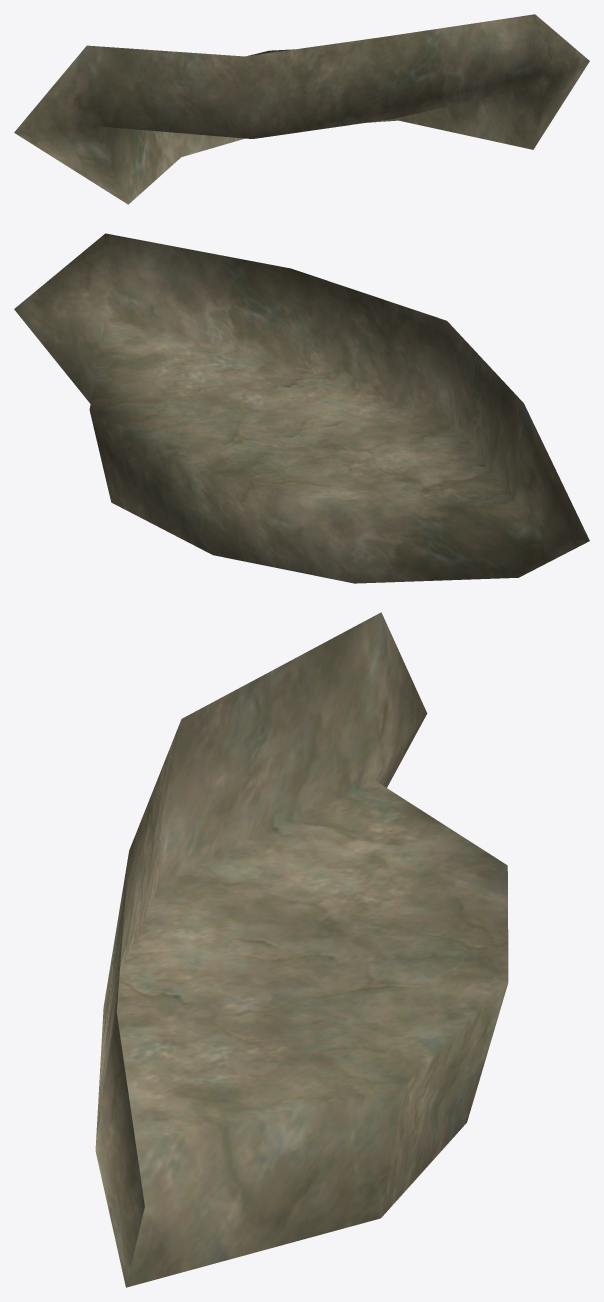
Rendered from EKH_CAVERNS_PS_CA_PLATFORM_9030.fbx.
3 views of the same model, one above another, from view 1: azimuth 30°, elevation 25°; view 2: azimuth 150°, elevation 25°; view 3: azimuth 270°, elevation 25° (orthographic). The views are drawn at different scales.
Parts seen in each view (by area): view 1: EKH_CAVERNS_PS_CA_PLATFORM_9030; view 2: EKH_CAVERNS_PS_CA_PLATFORM_9030; view 3: EKH_CAVERNS_PS_CA_PLATFORM_9030.
Boxes of the visible parts, x1,y1,x2,y2 form: EKH_CAVERNS_PS_CA_PLATFORM_9030: (14,14,589,204); EKH_CAVERNS_PS_CA_PLATFORM_9030: (14,233,589,583); EKH_CAVERNS_PS_CA_PLATFORM_9030: (95,612,508,1287).
Bounding box in the file's own units: 49963 × 14265 × 17677.
Materials: 1 (1 with a texture image).
